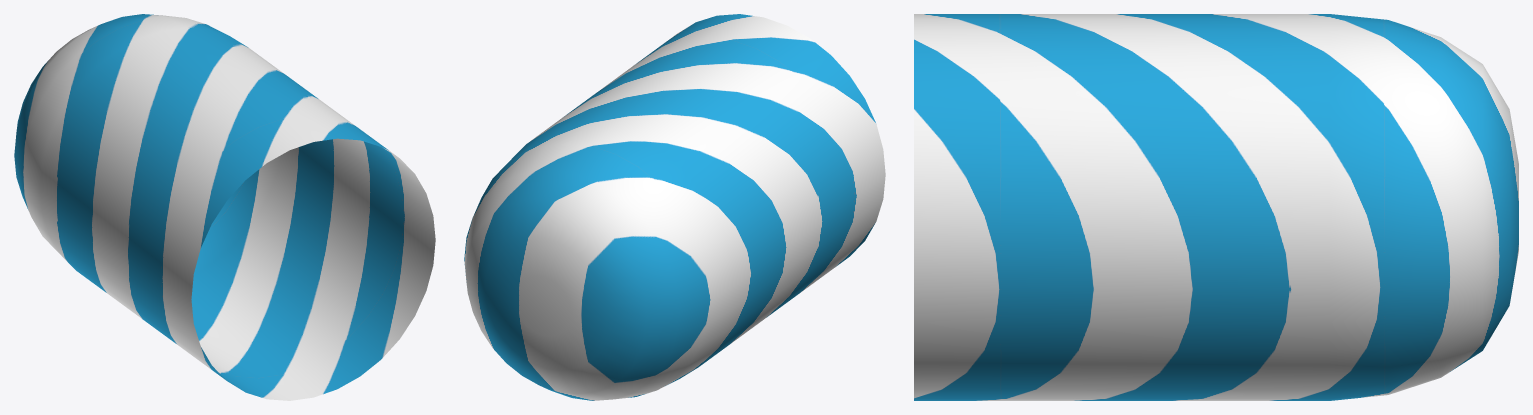
File: Piece.fbx
3 renders of one model, left to right at view 1: azimuth 30°, elevation 25°; view 2: azimuth 150°, elevation 25°; view 3: azimuth 270°, elevation 25°, orthographic. The views are drawn at different scales.
Parts seen in each view (by area): view 1: Cylinder; view 2: Cylinder; view 3: Cylinder.
Boxes of the visible parts, left/top/right/bottom form: Cylinder: left=14, top=14, right=435, bottom=400; Cylinder: left=464, top=14, right=885, bottom=400; Cylinder: left=914, top=14, right=1518, bottom=400.
Bounding box in the file's own units: 1.28 × 1.28 × 2.
